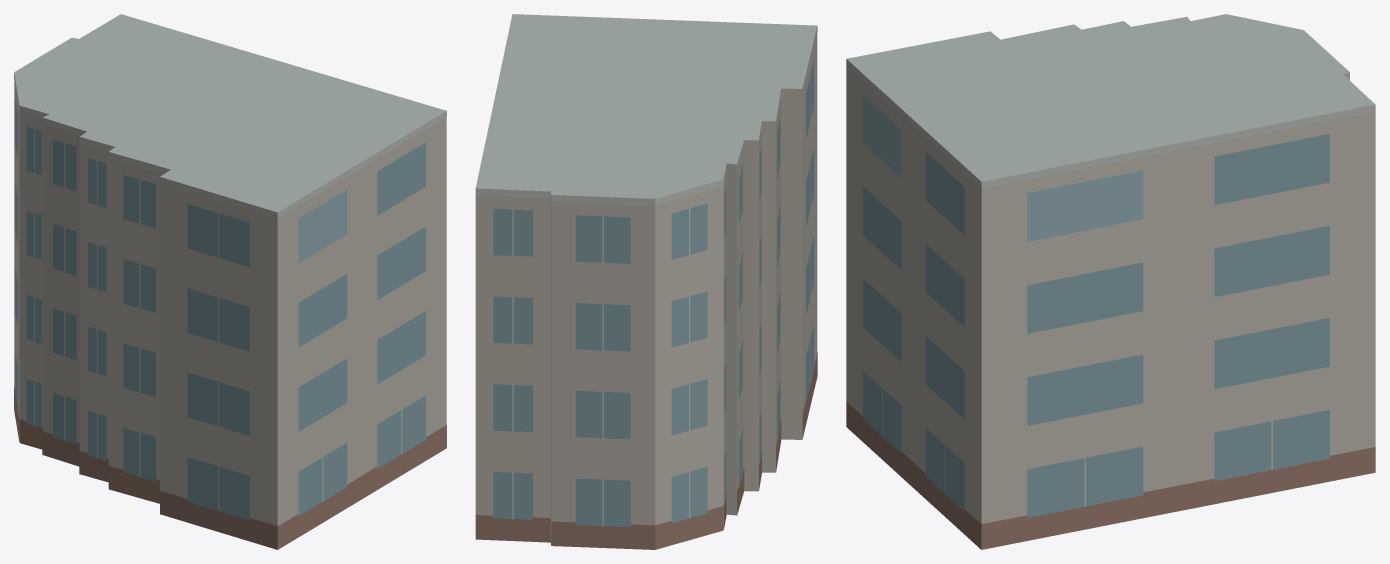
Rendered from survey-upis-33035661.glb.
3 renders of one model, left to right at view 1: azimuth 30°, elevation 25°; view 2: azimuth 150°, elevation 25°; view 3: azimuth 270°, elevation 25°, orthographic. The views are drawn at different scales.
Visible parts, largest first — view 1: survey-upis-33035661.tmp; view 2: survey-upis-33035661.tmp; view 3: survey-upis-33035661.tmp.
Boxes of the visible parts, bbox=[...] form: survey-upis-33035661.tmp: bbox=[14, 14, 446, 549]; survey-upis-33035661.tmp: bbox=[475, 14, 817, 549]; survey-upis-33035661.tmp: bbox=[846, 14, 1375, 549].
Bounding box in the file's own units: 12.42 × 12.7 × 16.56.
